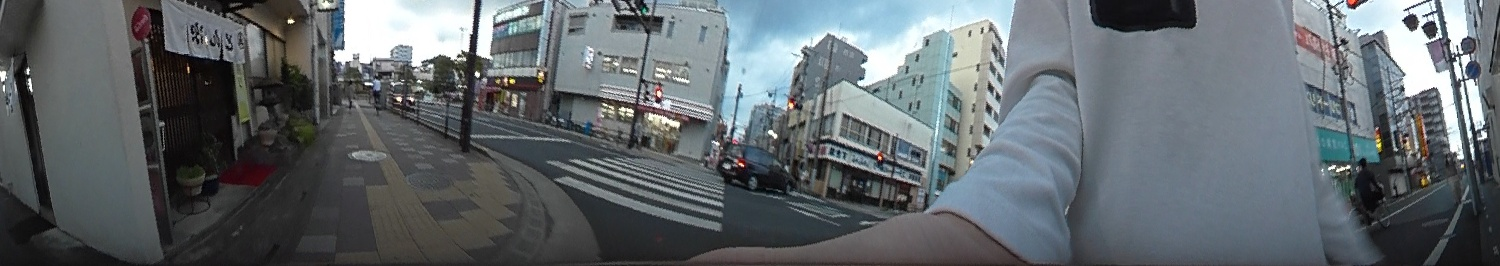difficult_person: (1346, 154, 1383, 224), (340, 76, 358, 111), (369, 71, 385, 110)
